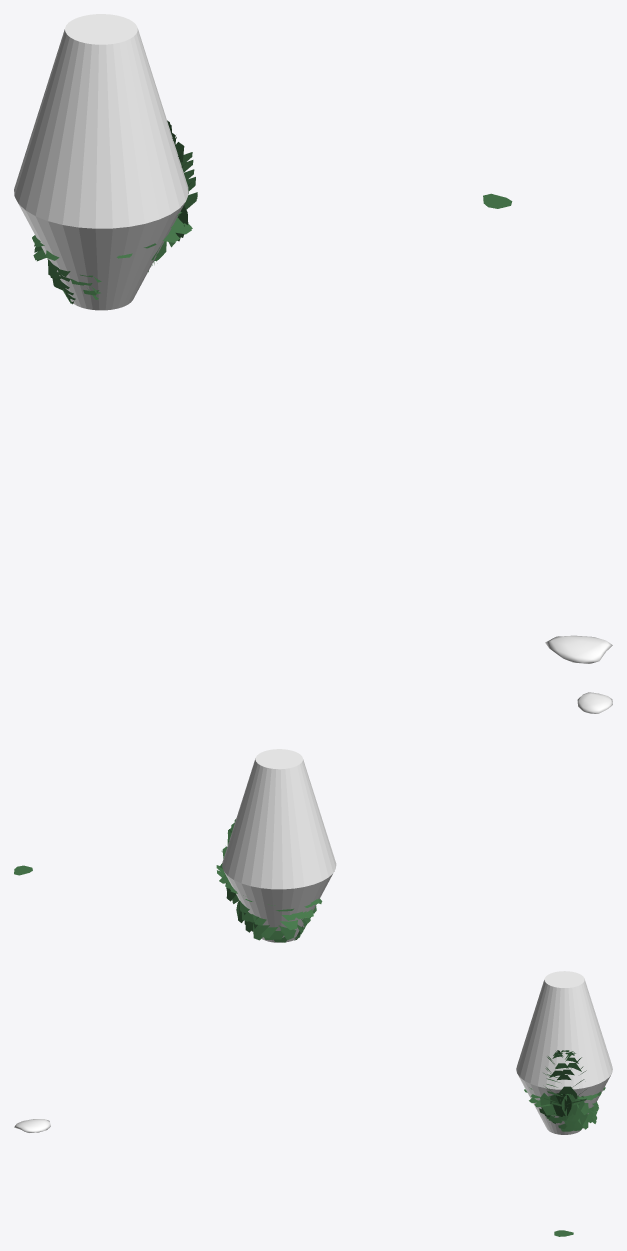
Rendered from trees.glb.
3 renders of one model, top to bottom at view 1: azimuth 30°, elevation 25°; view 2: azimuth 150°, elevation 25°; view 3: azimuth 270°, elevation 25°, orthographic. The views are drawn at different scales.
Parts seen in each view (by area): view 1: Cylinder, Icosphere, Icosphere.001; view 2: Cylinder, Icosphere, Icosphere.001; view 3: Cylinder, Icosphere, Icosphere.001.
Boxes of the visible parts, bbox=[...] form: Cylinder: bbox=[14, 14, 188, 310]; Icosphere: bbox=[32, 120, 197, 304]; Icosphere.001: bbox=[545, 635, 612, 663]; Cylinder: bbox=[222, 749, 336, 942]; Icosphere: bbox=[216, 819, 322, 942]; Icosphere.001: bbox=[577, 692, 612, 713]; Cylinder: bbox=[516, 971, 612, 1134]; Icosphere: bbox=[524, 1050, 605, 1131]; Icosphere.001: bbox=[14, 1119, 50, 1132].
Bounding box in the file's own units: 3.77 × 2.03 × 7.35.
